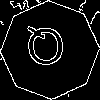Q: (25, 25, 66, 75)
